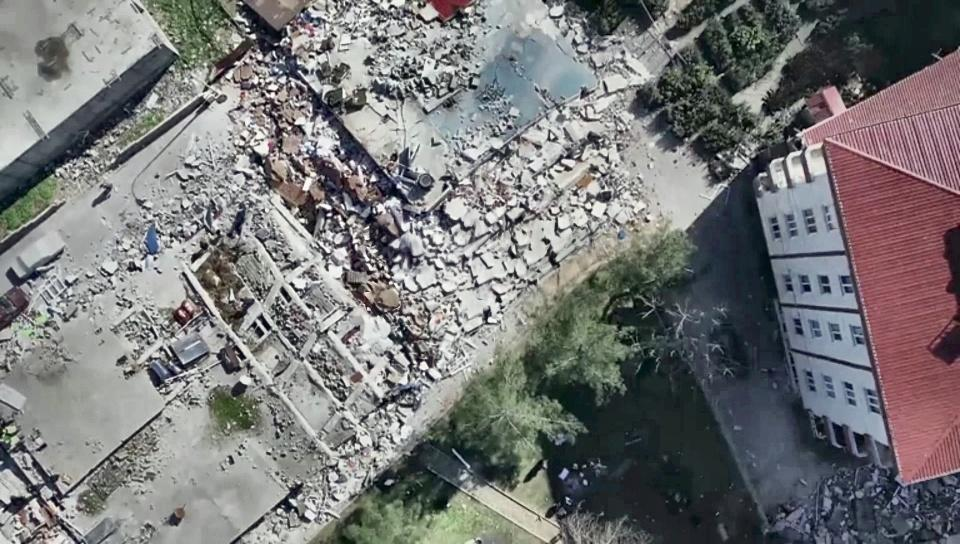kapali: (49, 0, 502, 295)
